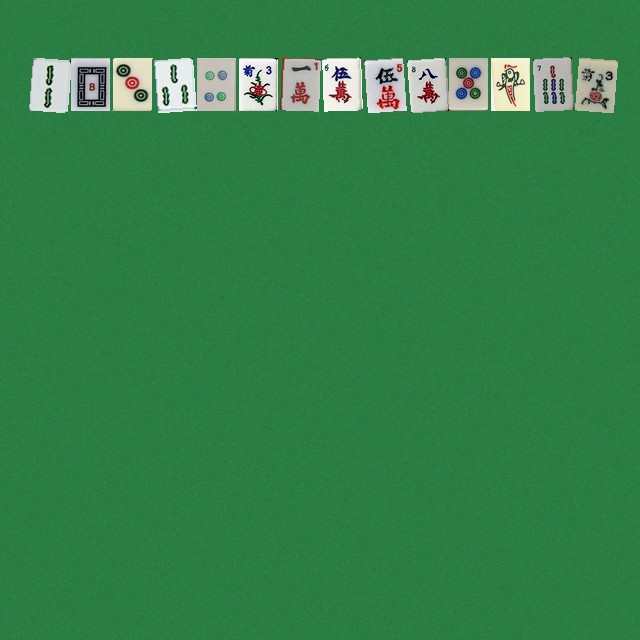tile: (28, 57, 67, 110), (70, 57, 109, 110), (112, 57, 151, 110), (154, 57, 193, 110), (196, 57, 235, 110), (238, 57, 277, 110), (280, 57, 319, 110), (322, 57, 361, 110), (364, 57, 403, 110), (406, 57, 445, 110), (448, 57, 487, 110), (490, 57, 529, 110), (532, 57, 571, 110), (574, 57, 613, 110)
